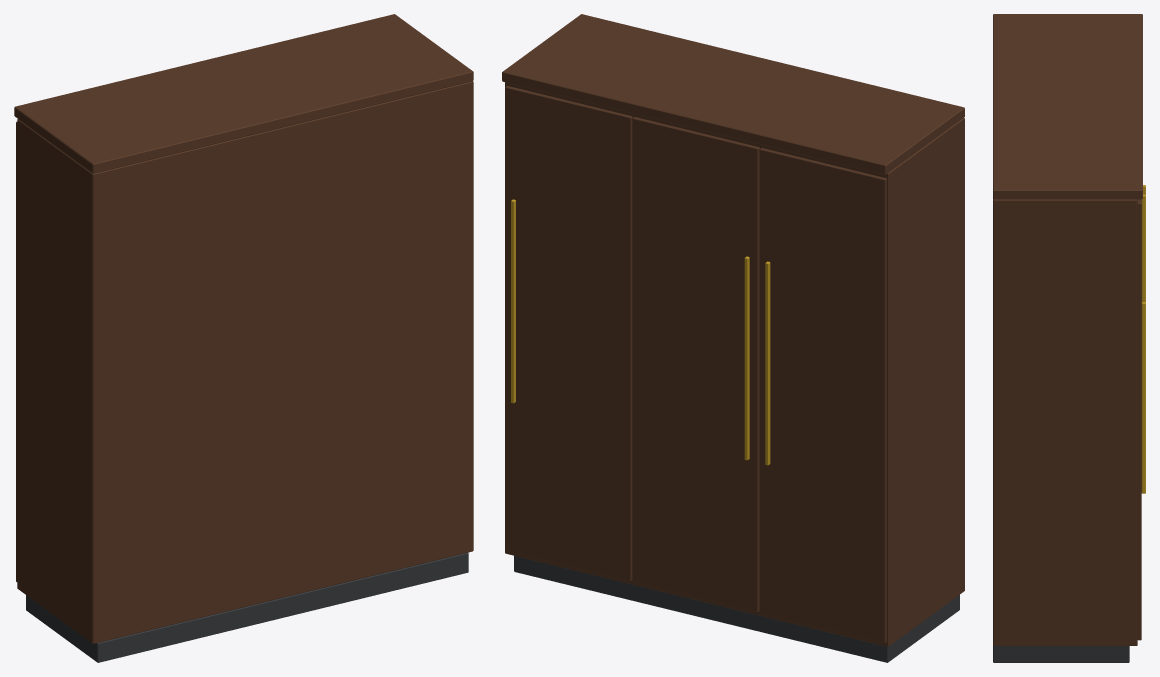
The model's file is prop_wardrobe_w160.glb.
3 views of the same model, side by side, from view 1: azimuth 30°, elevation 25°; view 2: azimuth 150°, elevation 25°; view 3: azimuth 270°, elevation 25° (orthographic). The views are drawn at different scales.
Visible parts, largest first — view 1: Wardrobe; view 2: Wardrobe; view 3: Wardrobe.
Part boxes in pixels (x1,y1,x2,y2): Wardrobe: (14, 14, 473, 662); Wardrobe: (502, 14, 964, 662); Wardrobe: (993, 14, 1145, 662).
Size of what is drawn, in the model's own units: 1.59 by 2 by 0.582.
